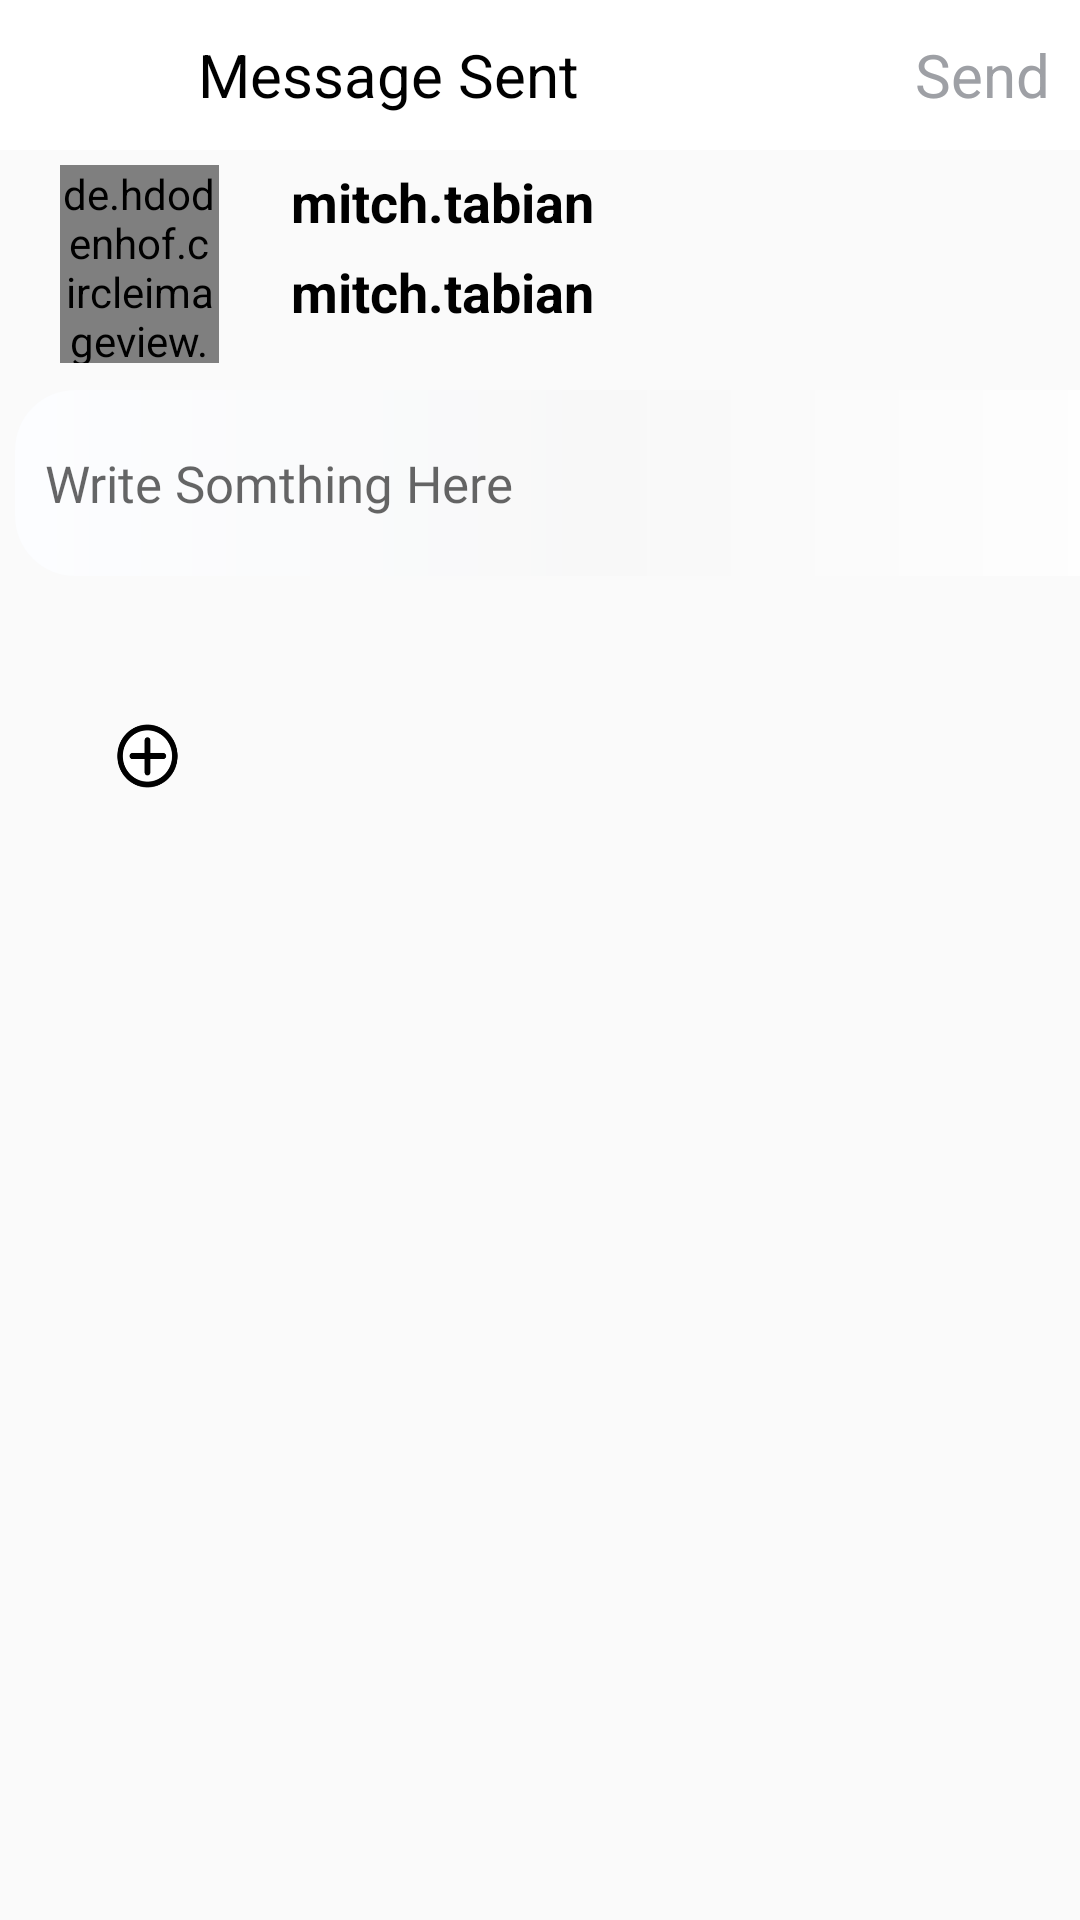

Icon bounding boxes for this 1080×1920 phone screenshot, format (x1, y1, x2, y2):
addone: (117, 724, 178, 788)
